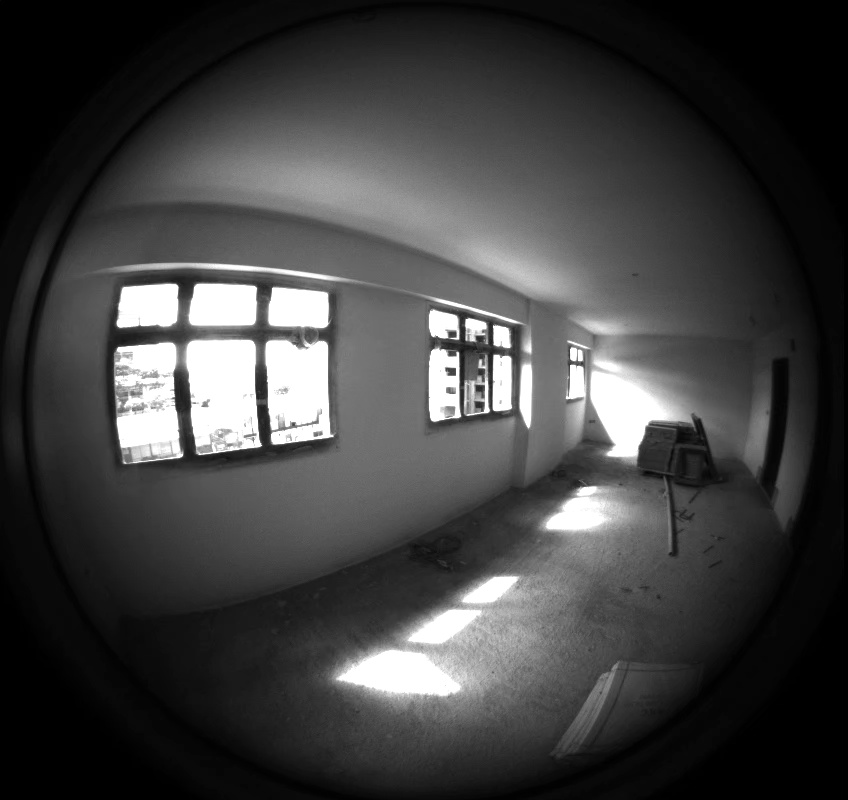Building materials: (152, 278, 701, 763), (82, 137, 719, 551)
Ceiling: (0, 0, 807, 514)
Floor: (129, 350, 785, 792)
Wall: (21, 53, 585, 450)
Windows: (17, 53, 584, 399), (87, 114, 514, 419), (111, 185, 513, 462)
